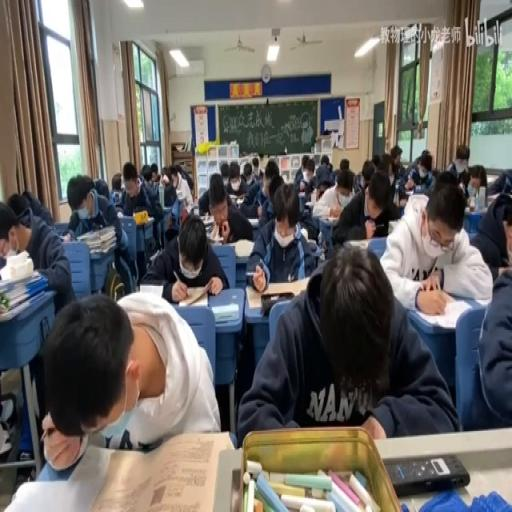calculator: (82, 428, 230, 509), (2, 442, 107, 509), (409, 294, 475, 328), (246, 274, 309, 308), (0, 287, 46, 321), (0, 265, 42, 294), (210, 300, 238, 322), (161, 202, 176, 236), (180, 292, 209, 308), (232, 236, 254, 256), (138, 283, 162, 296), (202, 212, 214, 235), (206, 230, 222, 244), (387, 219, 400, 235), (318, 213, 340, 222), (137, 215, 153, 226), (246, 215, 260, 226), (174, 189, 184, 201), (234, 195, 245, 205), (403, 186, 414, 196), (58, 232, 70, 240), (304, 198, 314, 206), (298, 189, 304, 199), (400, 196, 406, 206), (245, 269, 256, 274), (116, 209, 122, 218)
paper: (238, 242, 452, 442), (0, 194, 77, 452), (379, 181, 492, 310), (458, 254, 510, 430), (66, 173, 132, 293), (142, 212, 228, 299), (246, 180, 317, 284), (330, 166, 400, 248), (118, 162, 164, 252), (13, 188, 56, 228), (403, 146, 435, 194), (0, 212, 26, 257), (293, 155, 315, 192), (485, 167, 512, 196), (225, 161, 248, 195), (491, 192, 512, 225), (171, 161, 193, 192), (266, 172, 284, 205), (238, 195, 260, 219), (314, 162, 333, 188), (376, 154, 392, 184), (109, 172, 123, 205), (394, 161, 407, 196), (468, 164, 486, 189), (360, 158, 375, 186), (501, 218, 511, 260), (94, 175, 110, 200), (434, 170, 456, 186), (337, 173, 353, 195), (456, 168, 470, 192), (346, 225, 364, 240), (251, 156, 261, 180), (454, 145, 469, 161), (390, 145, 402, 164), (141, 164, 152, 184), (258, 152, 268, 172), (161, 168, 171, 186), (180, 205, 190, 223), (339, 156, 350, 170), (219, 161, 229, 176), (242, 164, 252, 179), (372, 154, 381, 165), (319, 155, 328, 165), (326, 160, 332, 170)
person: (384, 452, 470, 494), (373, 220, 388, 238)
